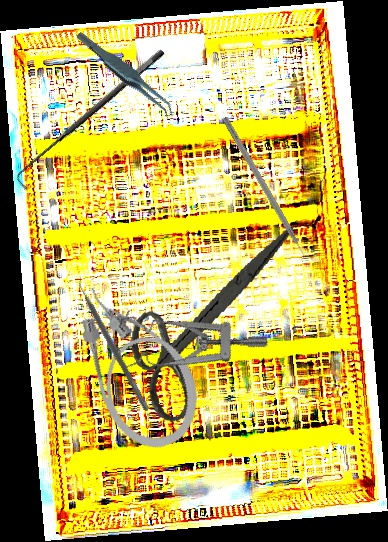Cannula: (62, 265, 214, 461)
Chopper: (214, 116, 311, 269)
Hook Surgical: (7, 46, 175, 193)
Iris Scissors: (119, 205, 294, 436)
Spatula Surgical: (71, 273, 156, 412)
Speculum: (104, 281, 271, 416)
Tissue Forceps: (75, 15, 177, 134)
